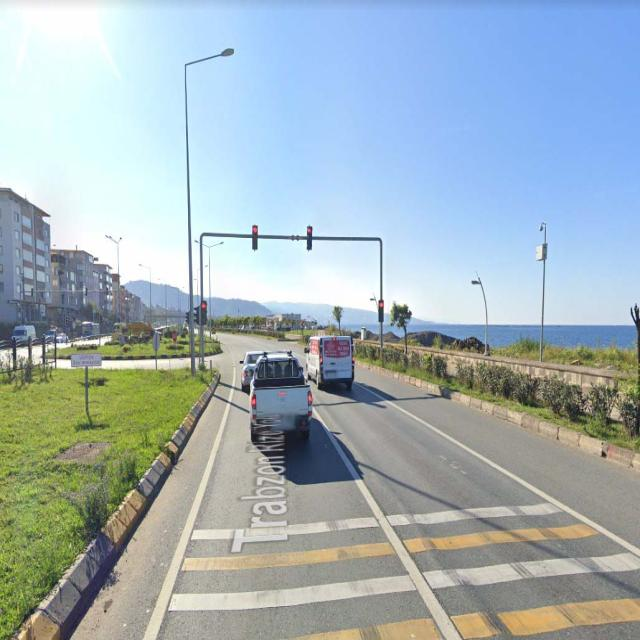kirmizi: (201, 302, 207, 326), (253, 224, 258, 250), (307, 228, 312, 250), (379, 300, 384, 320)
